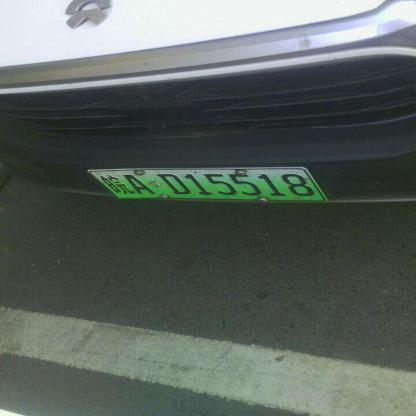lp: (88, 168, 327, 200)
